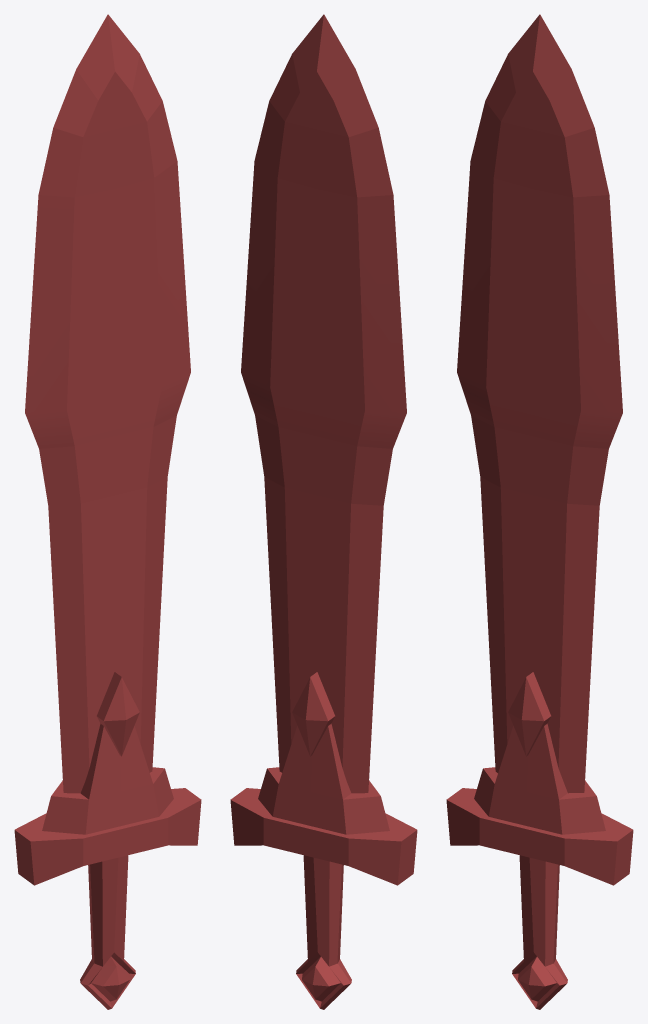
File: Knight_Sword_Undead.fbx
The picture shows the model from 3 angles, left to right: view 1: azimuth 30°, elevation 25°; view 2: azimuth 150°, elevation 25°; view 3: azimuth 330°, elevation 25°; orthographic projection.
Visible parts, largest first — view 1: Knight_Sword_Undead; view 2: Knight_Sword_Undead; view 3: Knight_Sword_Undead.
Part boxes in pixels (x1,y1,x2,y2): Knight_Sword_Undead: [14, 14, 201, 1009]; Knight_Sword_Undead: [230, 14, 417, 1009]; Knight_Sword_Undead: [446, 14, 633, 1009].
Size of the model in its own units: 22.36 by 124 by 8.26.
